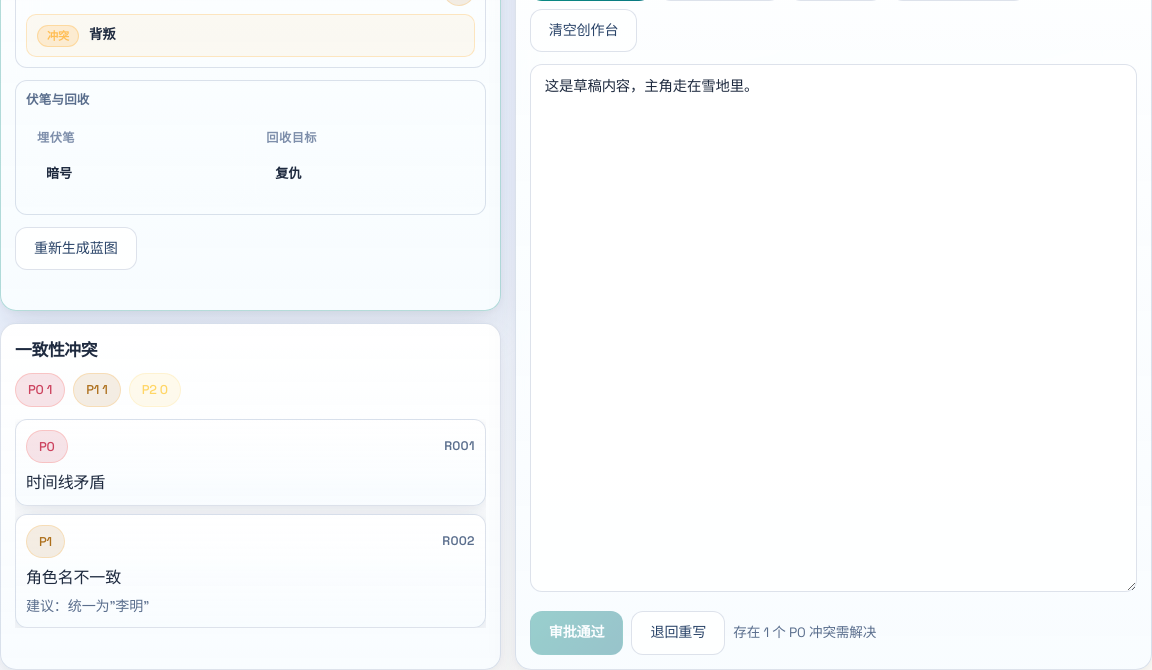
Test case: ChapterWorkbenchPage › 清空创作台仅清空本地编辑区，不触发保存接口
(page scrolled)
Expected: the button "清空创作台" is shown, [530, 9, 637, 52]
Replace the text in the text box with "临时编辑内容": x=833, y=328 [530, 64, 1137, 592]
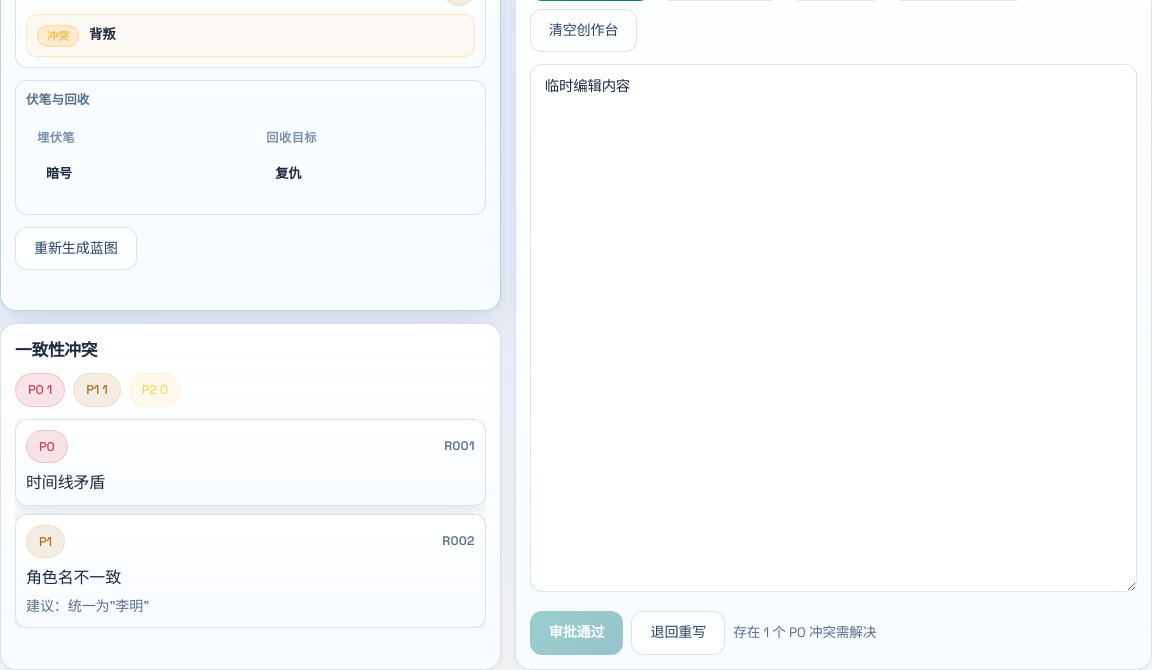
Click the button "清空创作台": x=584, y=31 [530, 9, 637, 52]
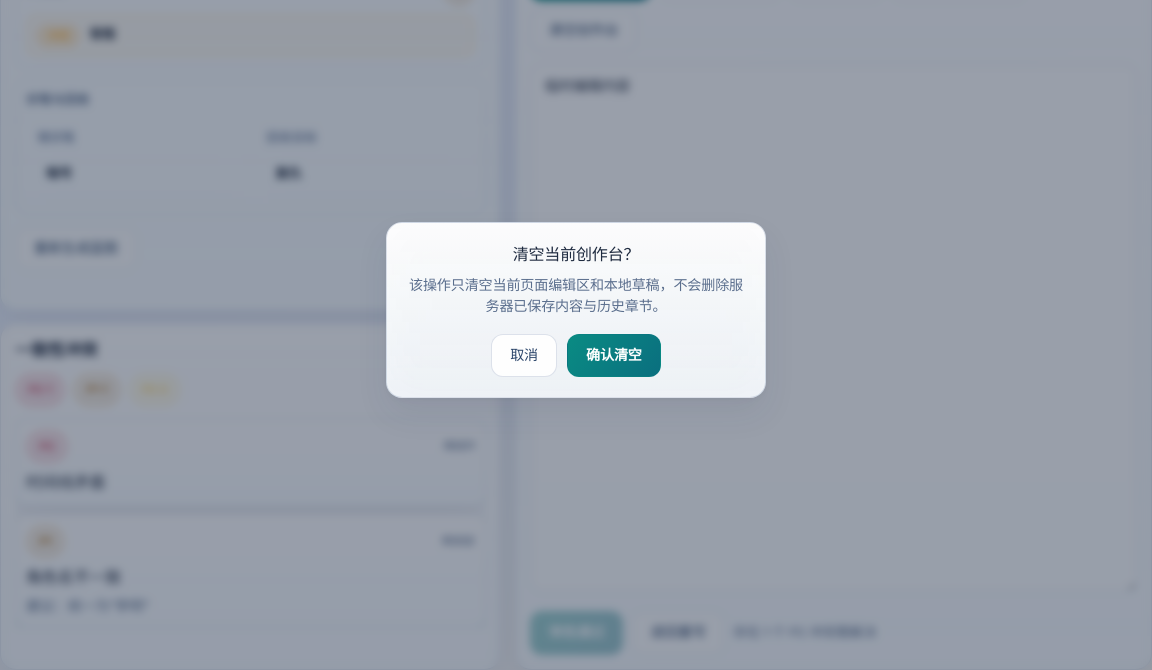
Result: the text "清空当前创作台？" is shown at [513, 244, 639, 265]
Click the button "确认清空": x=614, y=355 [567, 334, 661, 377]
(page scrolled)
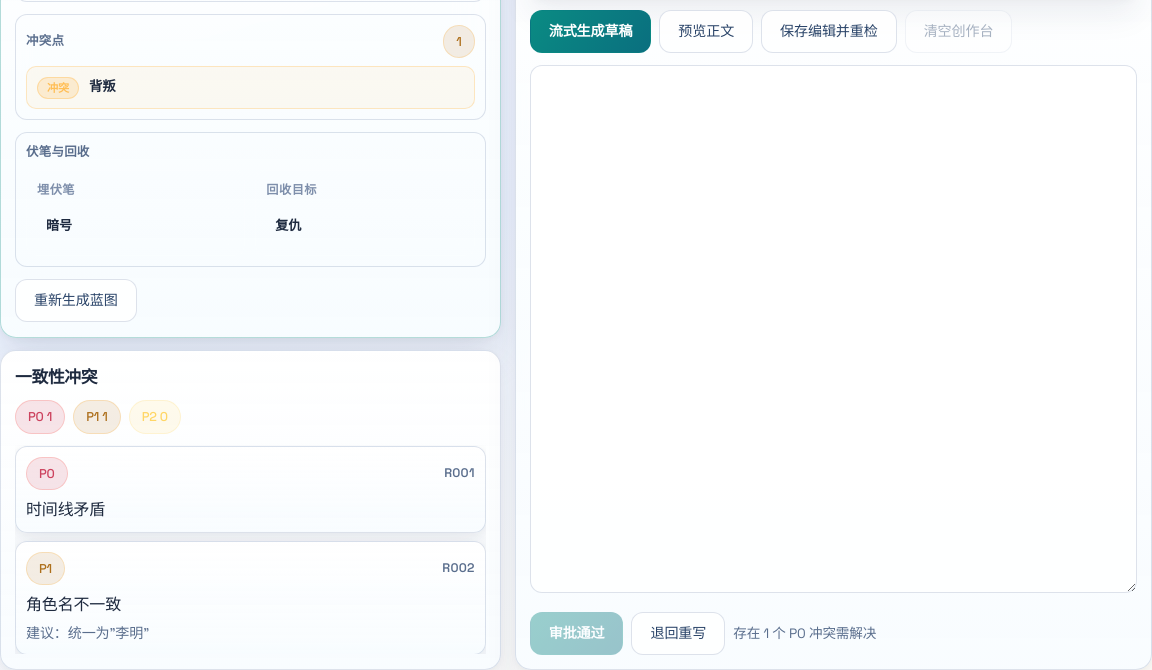
Result: the text box is empty at [530, 65, 1137, 593]
